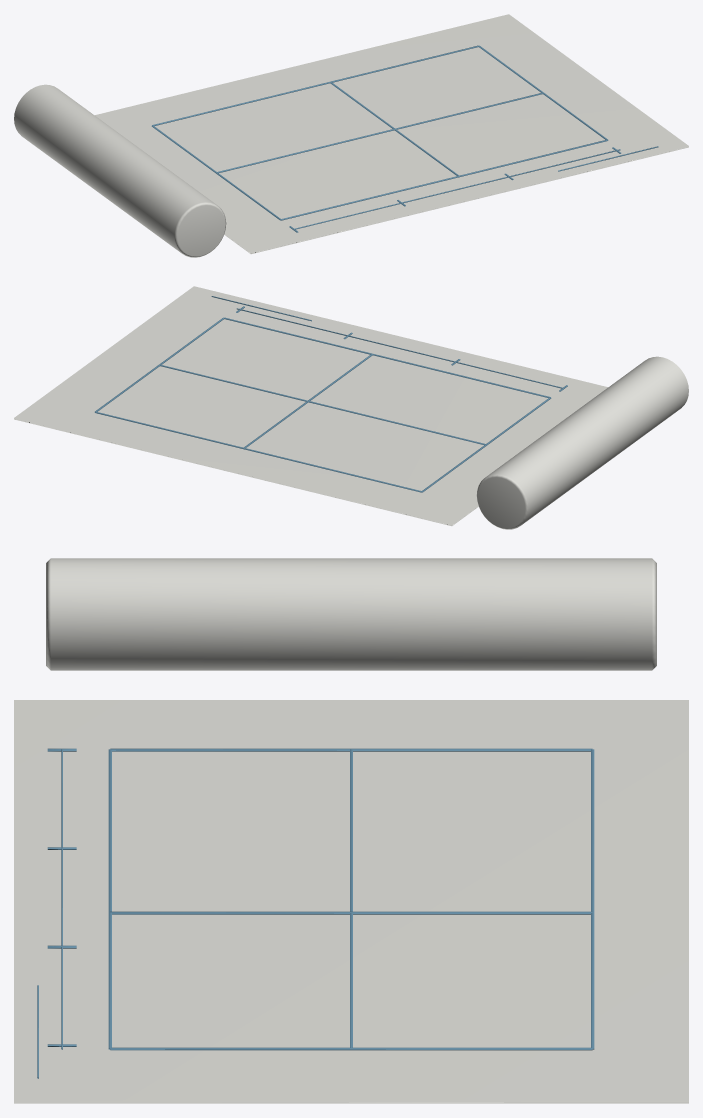
File: blueprints.glb
The picture shows the model from 3 angles, top to bottom: view 1: azimuth 30°, elevation 25°; view 2: azimuth 150°, elevation 25°; view 3: azimuth 270°, elevation 25°; orthographic projection. The views are drawn at different scales.
Parts seen in each view (by area): view 1: Plan_Sheet, Rolled_Plan, Plan_Wall_H_0.15, Plan_Wall_H_-0.15, Plan_Wall_H_0, Plan_Dimension_Line; view 2: Plan_Sheet, Rolled_Plan, Plan_Wall_H_-0.15, Plan_Wall_H_0, Plan_Wall_H_0.15, Plan_Dimension_Line; view 3: Plan_Sheet, Rolled_Plan, Plan_Wall_V_0.22, Plan_Wall_V_-0.22, Plan_Wall_V_0.02, Plan_Wall_H_-0.15, Plan_Wall_H_0.15, Plan_Wall_H_0.
Part boxes in pixels (bbox=[...]): Plan_Sheet: bbox=[95, 14, 688, 254]; Rolled_Plan: bbox=[14, 84, 226, 257]; Plan_Wall_H_0.15: bbox=[281, 140, 607, 220]; Plan_Wall_H_-0.15: bbox=[152, 45, 478, 125]; Plan_Wall_H_0: bbox=[216, 93, 542, 173]; Plan_Dimension_Line: bbox=[295, 149, 620, 229]; Plan_Sheet: bbox=[14, 286, 607, 526]; Rolled_Plan: bbox=[476, 356, 688, 529]; Plan_Wall_H_-0.15: bbox=[95, 412, 421, 492]; Plan_Wall_H_0: bbox=[160, 364, 485, 445]; Plan_Wall_H_0.15: bbox=[224, 317, 550, 397]; Plan_Dimension_Line: bbox=[236, 308, 562, 388]; Plan_Sheet: bbox=[14, 700, 688, 1103]; Rolled_Plan: bbox=[46, 558, 656, 670]; Plan_Wall_V_0.22: bbox=[110, 1047, 592, 1050]; Plan_Wall_V_-0.22: bbox=[110, 748, 592, 751]; Plan_Wall_V_0.02: bbox=[110, 911, 592, 914]; Plan_Wall_H_-0.15: bbox=[591, 749, 594, 1049]; Plan_Wall_H_0.15: bbox=[108, 749, 111, 1049]; Plan_Wall_H_0: bbox=[350, 749, 352, 1048].
Bounding box in the file's own units: 0.68 × 0.07 × 0.42.
